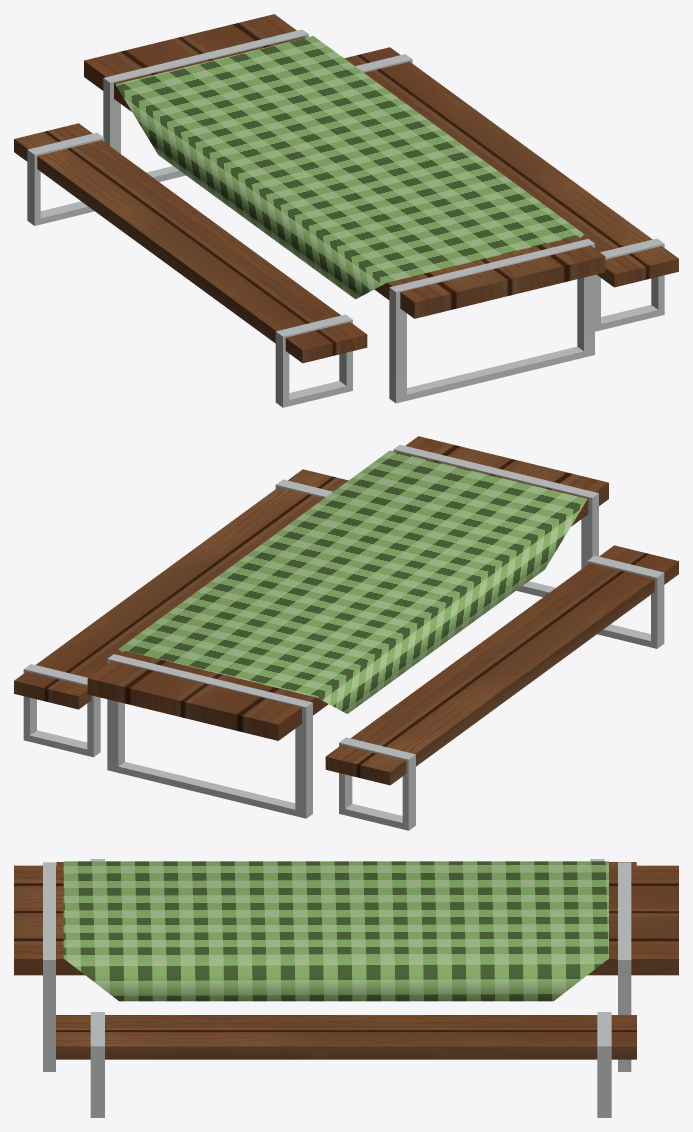
File: Table_Dinner_Art.fbx
3 views of the same model, one above another, from view 1: azimuth 30°, elevation 25°; view 2: azimuth 150°, elevation 25°; view 3: azimuth 270°, elevation 25° (orthographic).
Visible parts, largest first — view 1: Oktoberfest_Table_Dinner; view 2: Oktoberfest_Table_Dinner; view 3: Oktoberfest_Table_Dinner.
Part boxes in pixels (x1=…): Oktoberfest_Table_Dinner: x1=14, y1=14, x2=678, y2=407; Oktoberfest_Table_Dinner: x1=14, y1=436, x2=678, y2=830; Oktoberfest_Table_Dinner: x1=14, y1=859, x2=678, y2=1117.
Bounding box in the file's own units: 358 × 101 × 537.
